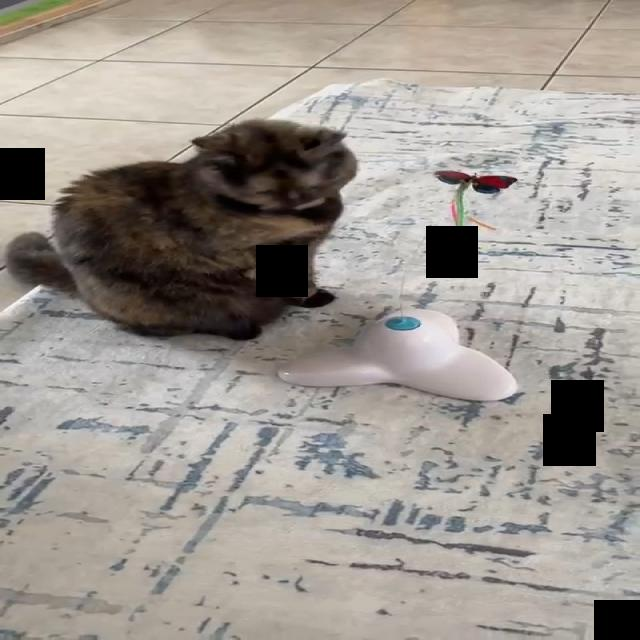authorized: (4, 117, 357, 341)
